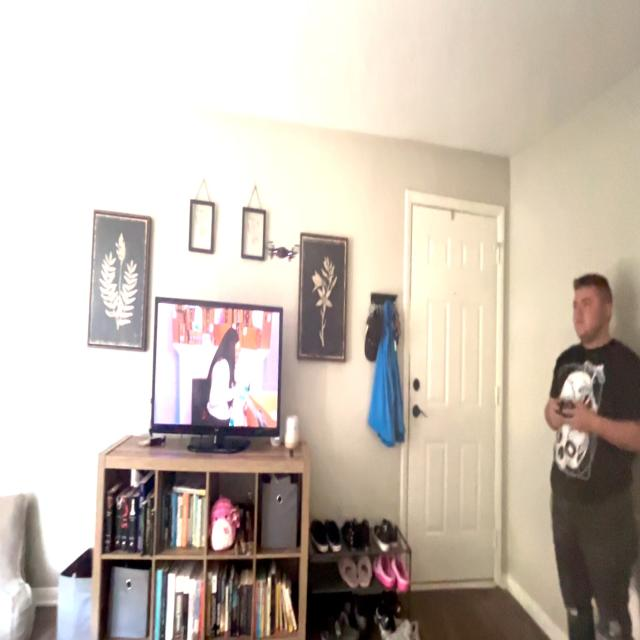drone: (258, 225, 306, 279)
